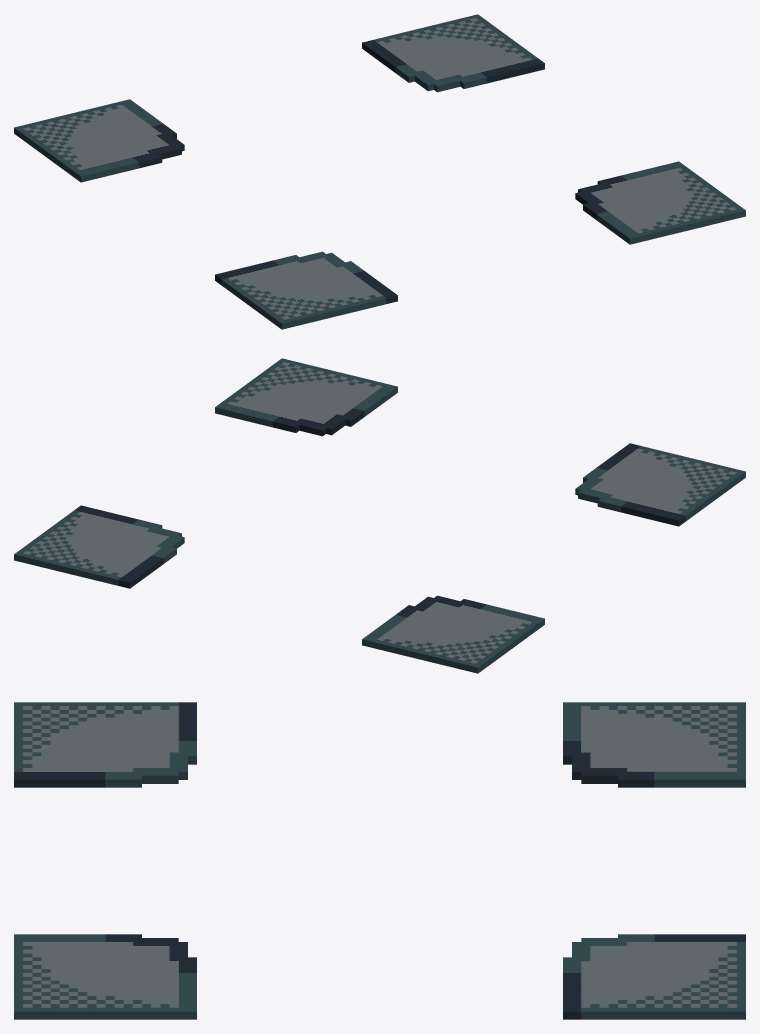
File: road_4_overtile.glb
3 views of the same model, one above another, from view 1: azimuth 30°, elevation 25°; view 2: azimuth 150°, elevation 25°; view 3: azimuth 270°, elevation 25° (orthographic). The views are drawn at different scales.
Parts seen in each view (by area): view 1: road_4_overtile; view 2: road_4_overtile; view 3: road_4_overtile.
Boxes of the visible parts, x1,y1,x2,y2 form: road_4_overtile: (14, 14, 745, 329); road_4_overtile: (14, 358, 745, 673); road_4_overtile: (14, 702, 745, 1019).
Size of the model in its own units: 8 by 0.1 by 8.
1 material, 1 textured.
